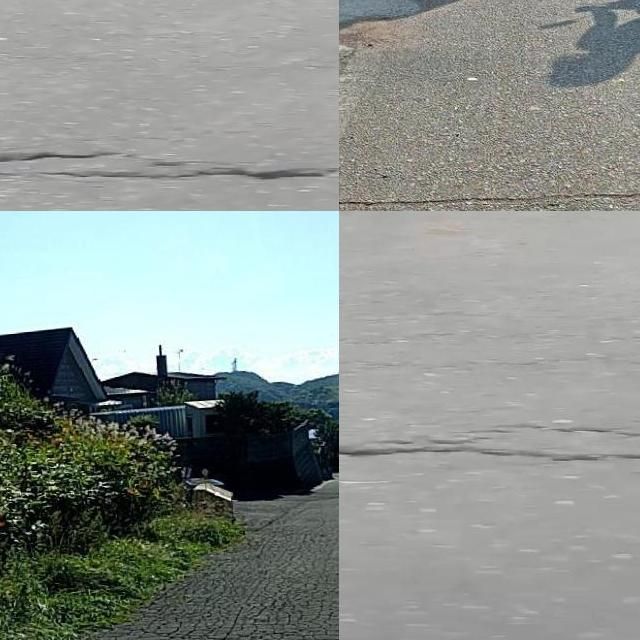Melintang: (0, 136, 339, 202), (339, 415, 640, 478), (339, 182, 640, 211)
Retak Buaya: (70, 529, 339, 640)
